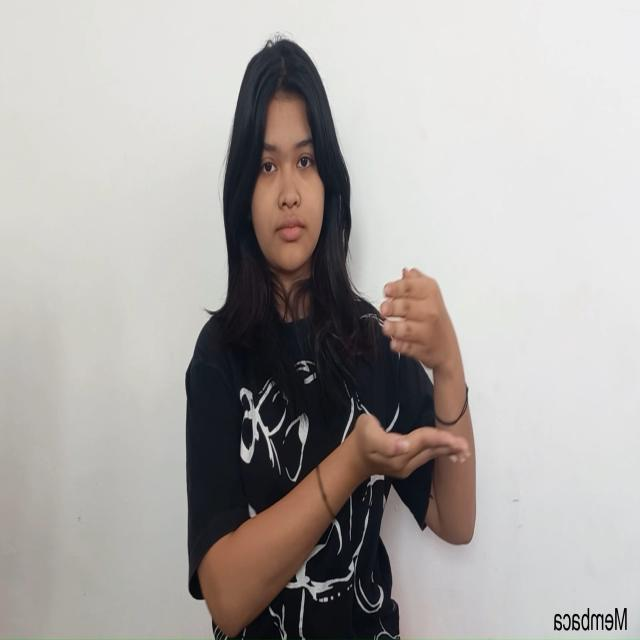Membaca -BISINDO-: (353, 267, 471, 480)
